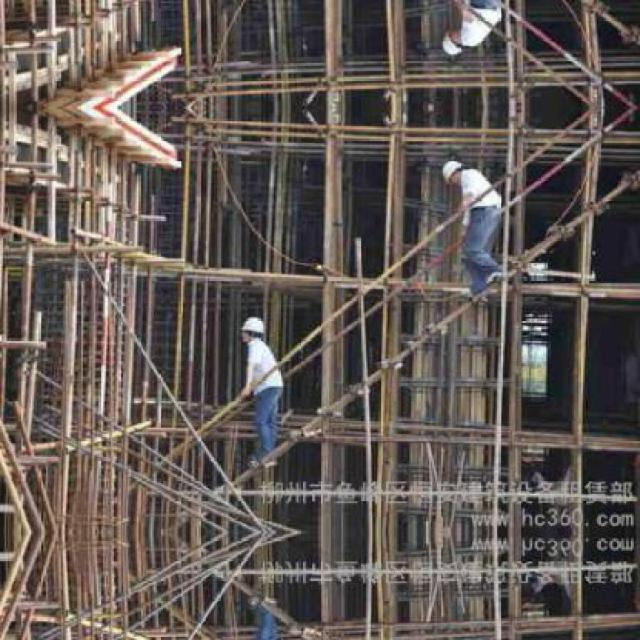helmet: (440, 155, 466, 183), (440, 29, 466, 57), (240, 312, 265, 341)
